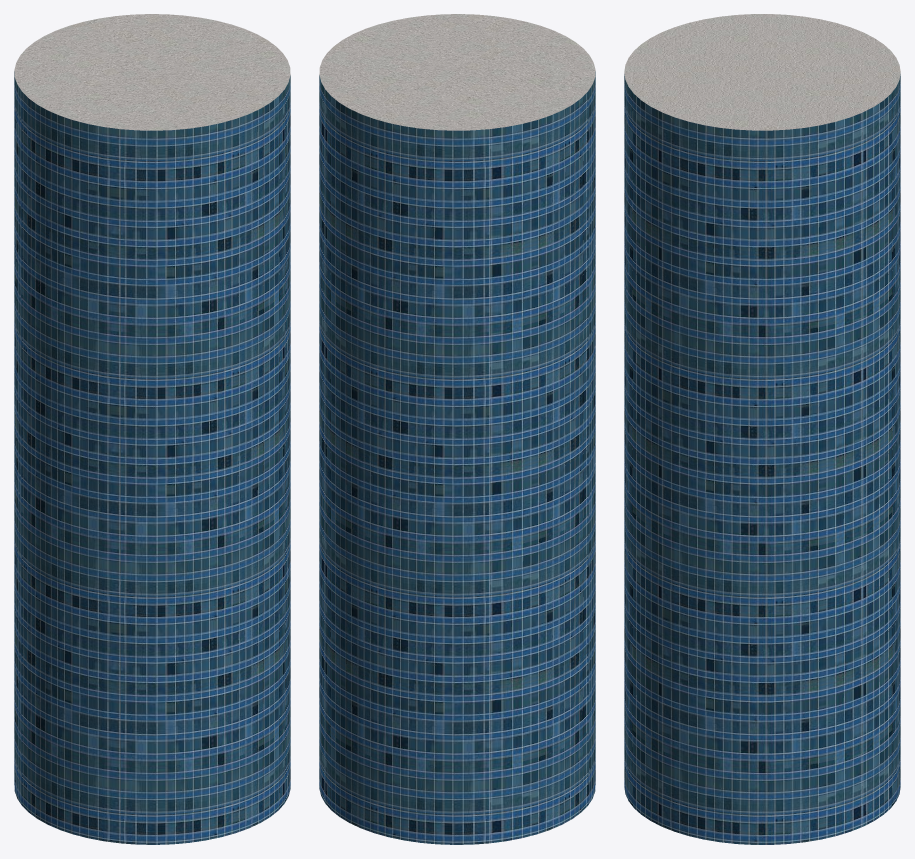
The model's file is building_019.glb.
3 renders of one model, left to right at view 1: azimuth 30°, elevation 25°; view 2: azimuth 150°, elevation 25°; view 3: azimuth 270°, elevation 25°, orthographic.
Visible parts, largest first — view 1: building_019; view 2: building_019; view 3: building_019.
Boxes of the visible parts, left/top/right/bottom form: building_019: left=14, top=14, right=290, bottom=844; building_019: left=319, top=14, right=595, bottom=844; building_019: left=624, top=14, right=900, bottom=844.
Bounding box in the file's own units: 1512 × 4320 × 1515.
Materials: 2 (2 with a texture image).
